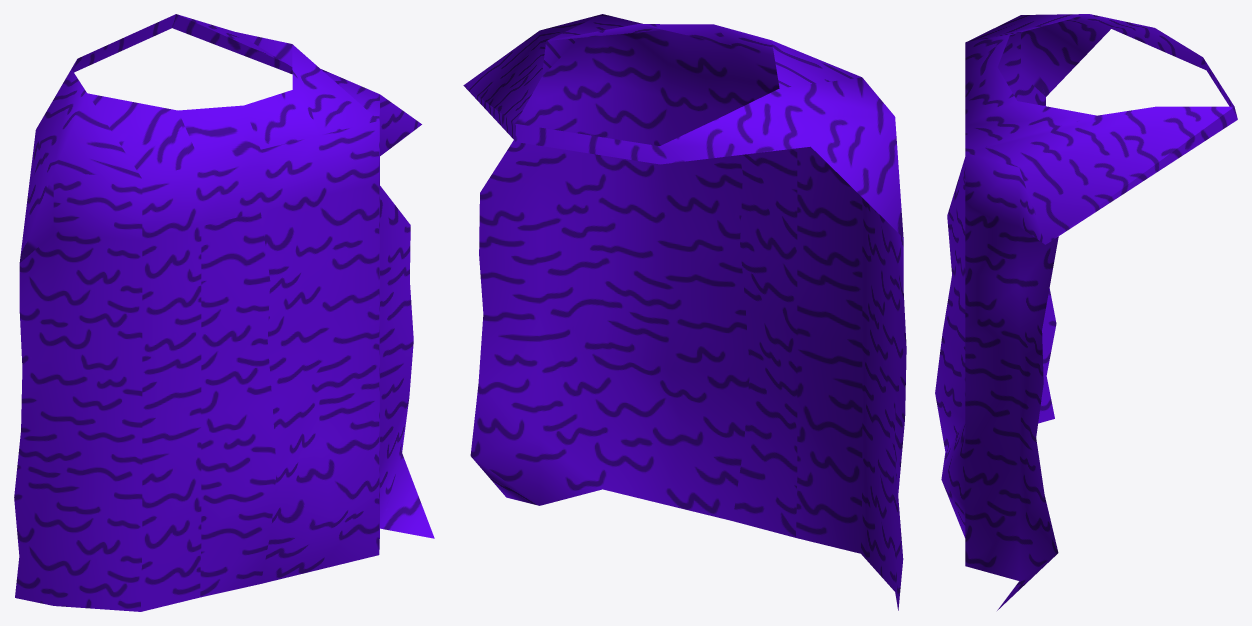
The model's file is item-wizard-cape.glb.
3 views of the same model, side by side, from view 1: azimuth 30°, elevation 25°; view 2: azimuth 150°, elevation 25°; view 3: azimuth 270°, elevation 25° (orthographic). The views are drawn at different scales.
Size of the model in its own units: 1.04 by 1.19 by 0.7104.
Materials: 1 (1 with a texture image).
